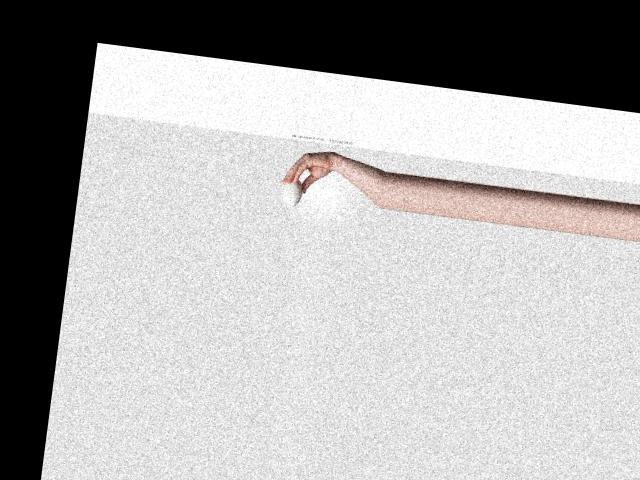egg: (281, 177, 304, 208)
